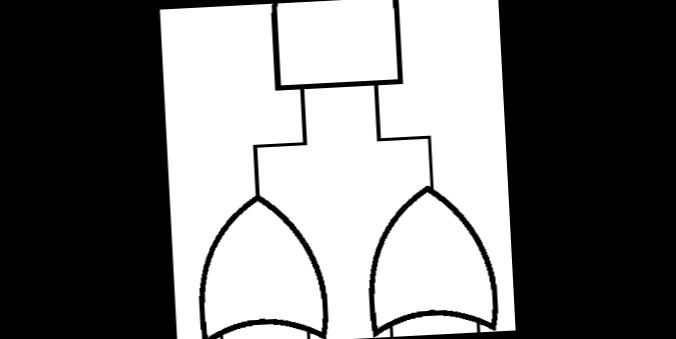nand: (261, 0, 414, 98)
or: (356, 172, 504, 338), (187, 183, 334, 339)
